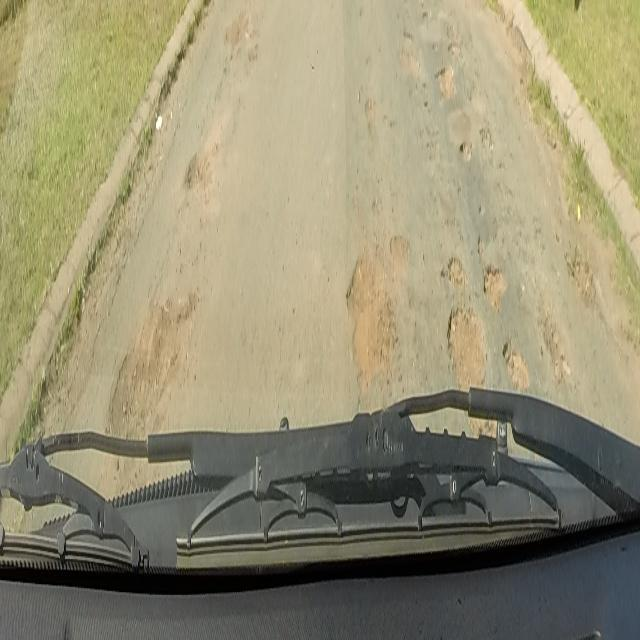pothole: (105, 285, 217, 437), (439, 259, 508, 391), (344, 244, 396, 396), (183, 146, 216, 194), (502, 337, 530, 393), (436, 64, 453, 96), (458, 136, 473, 160)
